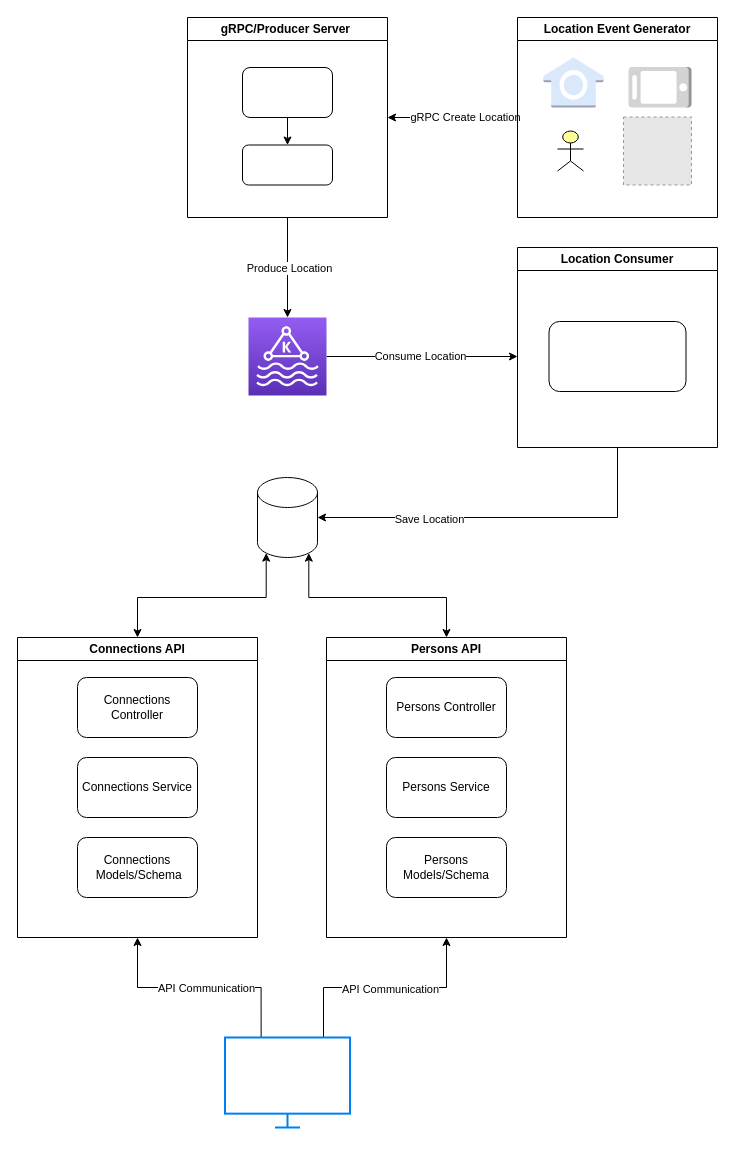
Image size: 735x1166. Some labels were removed from this diagram. Grey dashed boxes stand in for pictures. Here are the shapes that lost their labels. From the top down, the centre of each, then its label:
At (287,92): "gRPC Server".
At (287,164): "Location Producer".
At (287,356): "Kafka Broker".
At (617,356): "Consumer".
At (287,517): "DB".
At (287,1082): "Front End".
